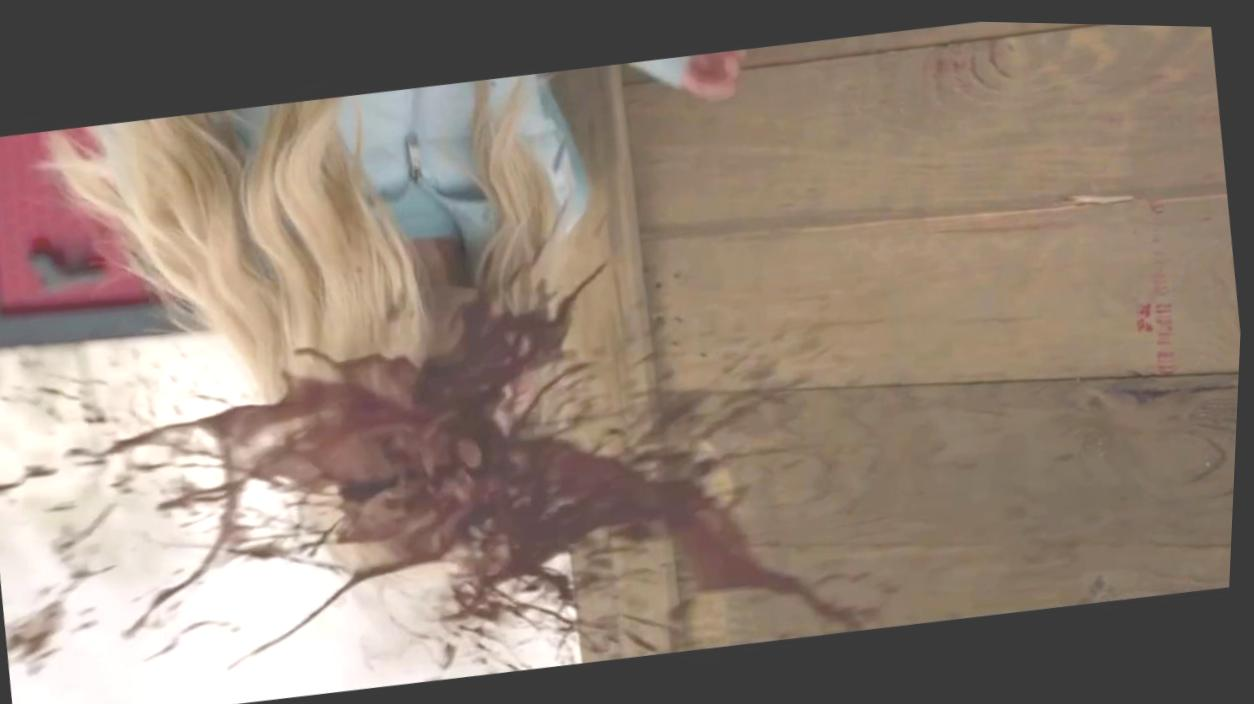Fire: (0, 261, 940, 675), (149, 620, 246, 662)
